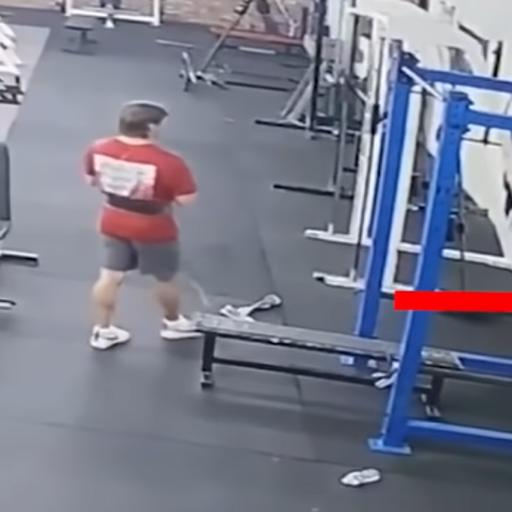Humans: (79, 88, 215, 358)
